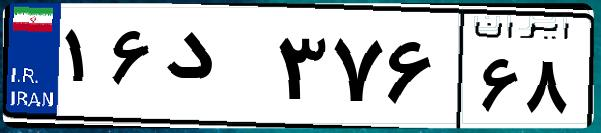1: (57, 26, 110, 100)
3: (270, 28, 330, 110)
6: (385, 28, 445, 110), (475, 38, 525, 113), (110, 28, 158, 98)
7: (330, 28, 385, 110)
8: (525, 38, 570, 115)
د: (158, 20, 270, 120)
